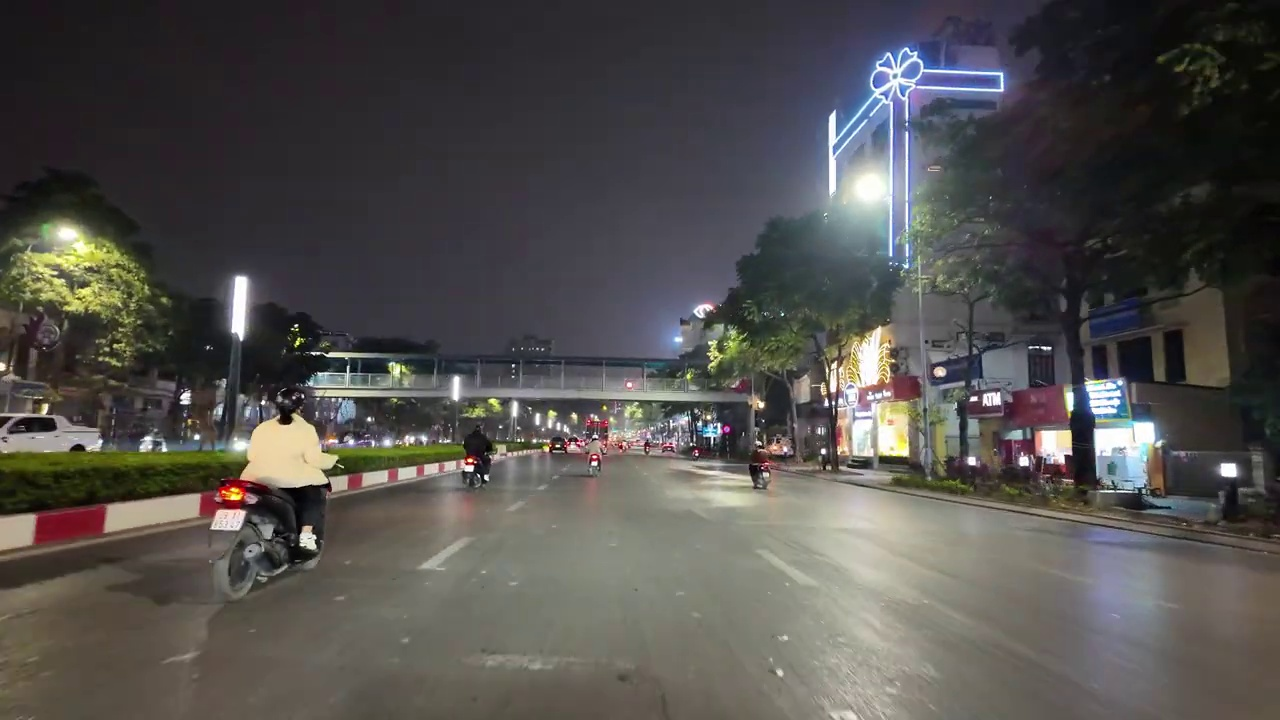acesa: (846, 169, 885, 207), (226, 275, 253, 328), (228, 275, 252, 304)
